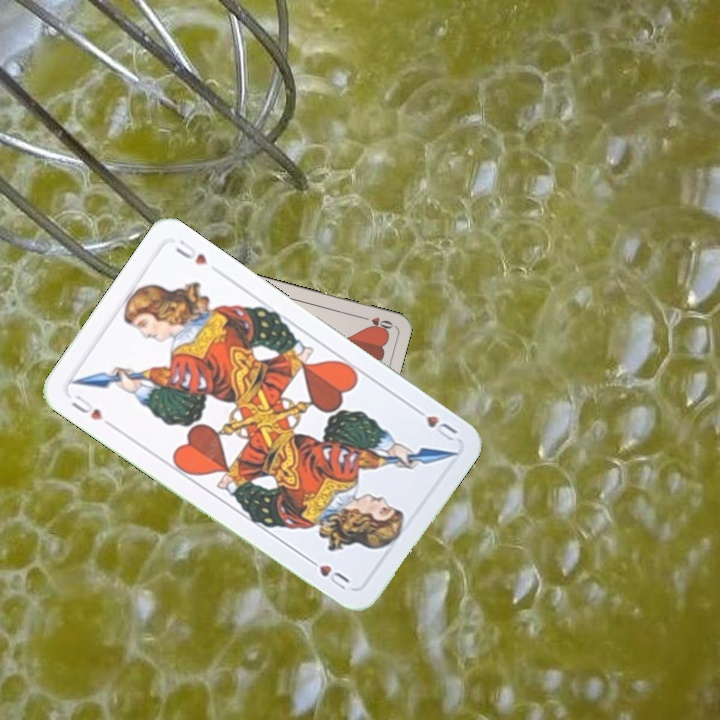HO: (356, 312, 396, 333)
HU: (409, 402, 460, 445), (67, 390, 106, 423)
